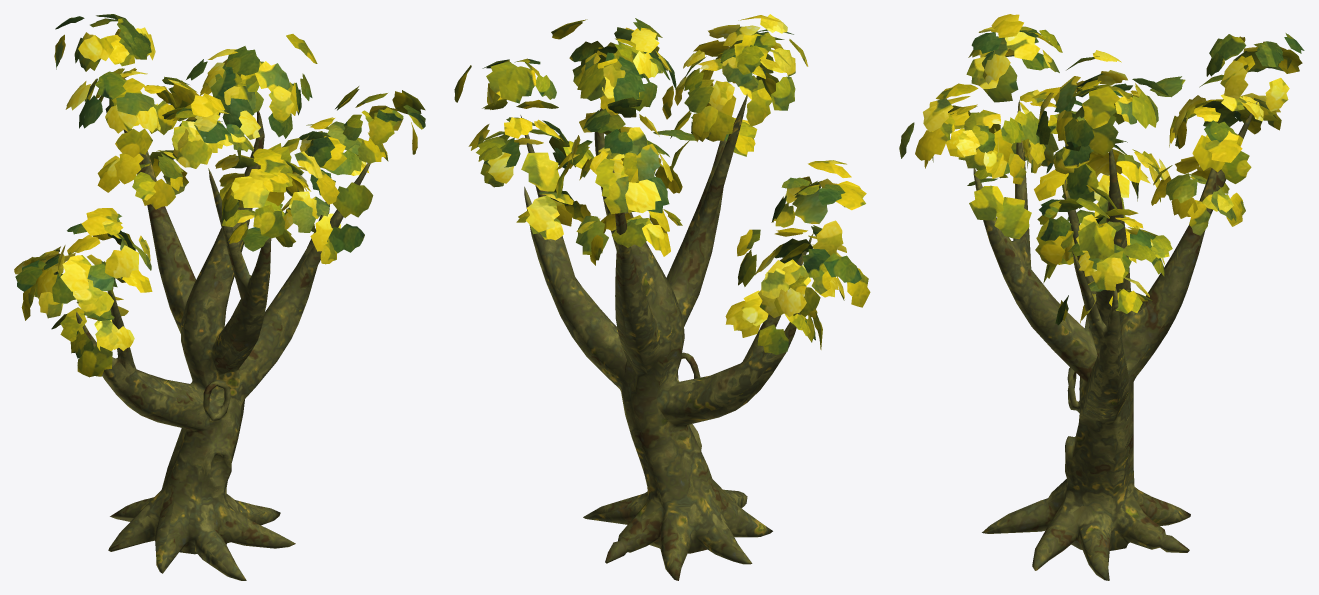
The model's file is golden_leaning_lod2.glb.
3 renders of one model, left to right at view 1: azimuth 30°, elevation 25°; view 2: azimuth 150°, elevation 25°; view 3: azimuth 270°, elevation 25°, orthographic. The views are drawn at different scales.
Parts seen in each view (by area): view 1: Leaves_LOD2.002, Trunk_LOD2.002; view 2: Leaves_LOD2.002, Trunk_LOD2.002; view 3: Leaves_LOD2.002, Trunk_LOD2.002.
Boxes of the visible parts, x1=… form: Leaves_LOD2.002: x1=14, y1=14, x2=425, y2=377; Trunk_LOD2.002: x1=76, y1=111, x2=370, y2=580; Leaves_LOD2.002: x1=454, y1=14, x2=870, y2=354; Trunk_LOD2.002: x1=520, y1=94, x2=813, y2=580; Leaves_LOD2.002: x1=899, y1=14, x2=1304, y2=325; Trunk_LOD2.002: x1=973, y1=100, x2=1257, y2=580.
Bounding box in the file's own units: 5.17 × 6.05 × 4.39.
Materials: 2 (2 with a texture image).
